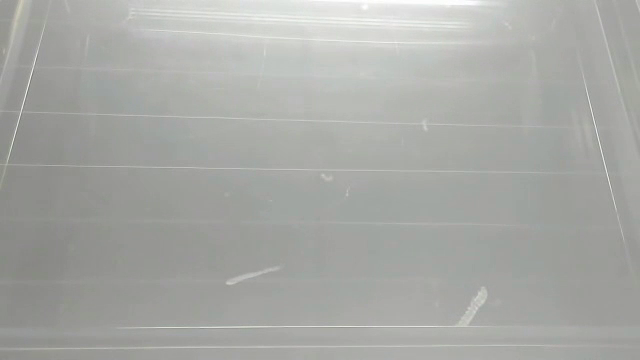alpha: (453, 284, 491, 333), (223, 260, 287, 288)
